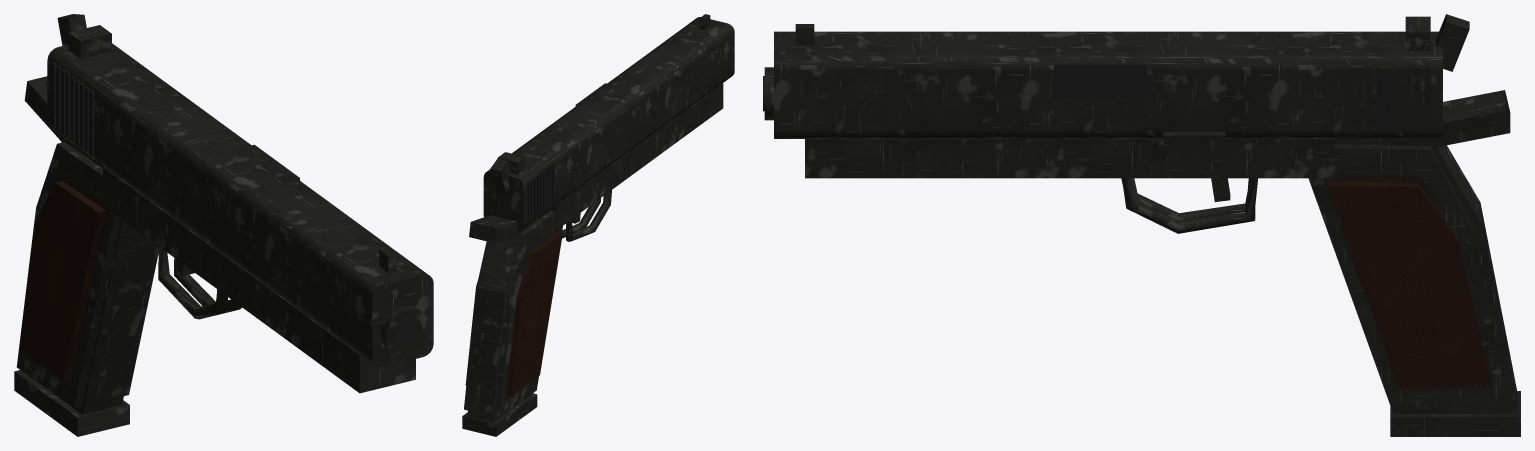
The picture shows the model from 3 angles, left to right: view 1: azimuth 30°, elevation 25°; view 2: azimuth 150°, elevation 25°; view 3: azimuth 270°, elevation 25°; orthographic projection. The views are drawn at different scales.
Visible parts, largest first — view 1: M1911A1; view 2: M1911A1; view 3: M1911A1.
Part boxes in pixels (x1,y1,x2,y2): M1911A1: (14,14,433,436); M1911A1: (462,14,734,436); M1911A1: (763,14,1520,436).
Size of the model in its own units: 0.0285 by 0.1439 by 0.2435.
3 materials, 2 textured.
